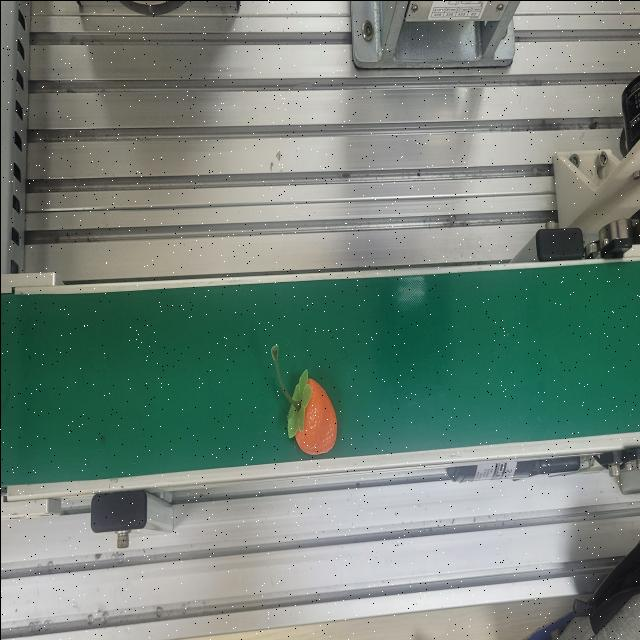Small Ripe Strawberry: (282, 366, 340, 454)
